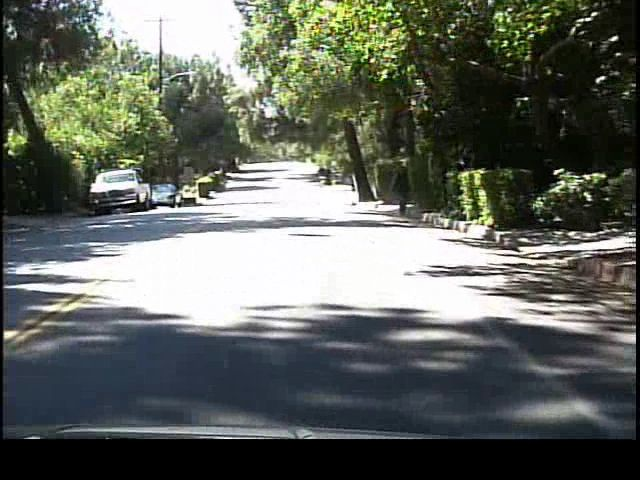person: (391, 159, 413, 218)
